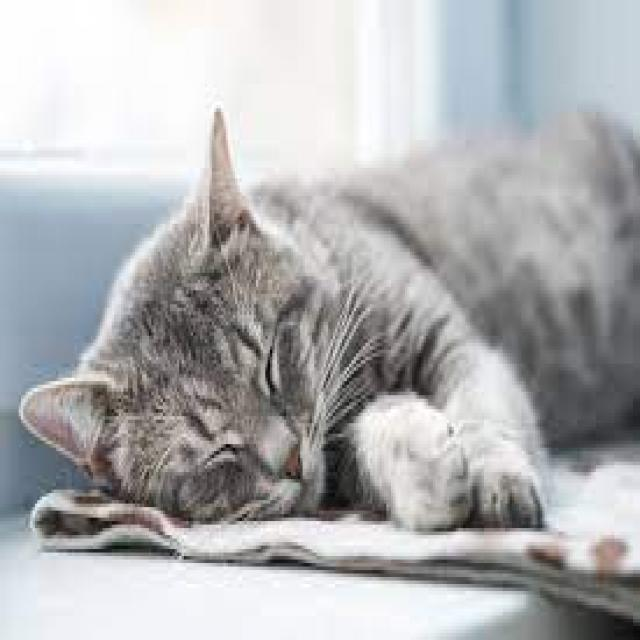Cat: (16, 92, 640, 534)
